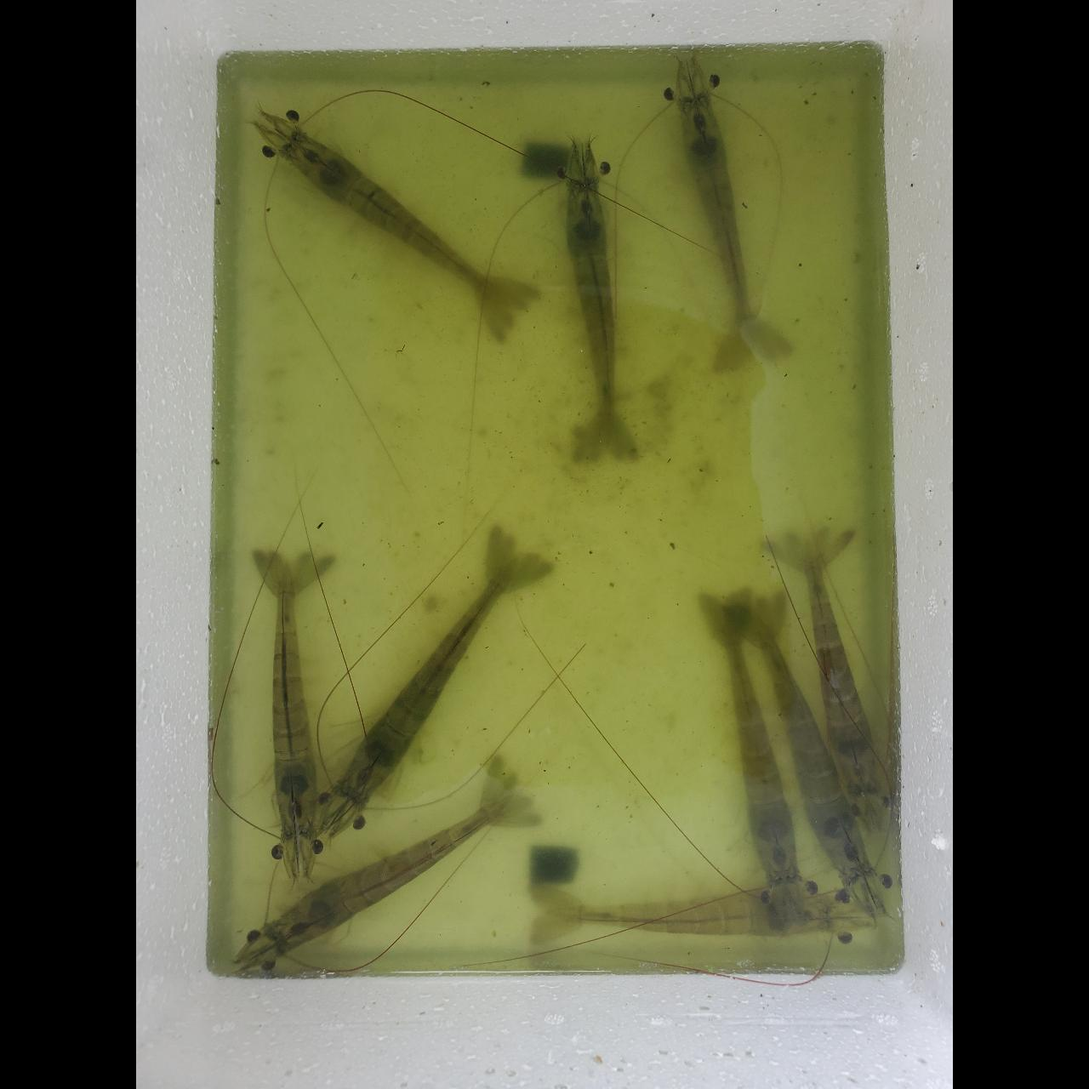box: (522, 141, 576, 184), (530, 846, 576, 886)
top_shrimp: (341, 554, 517, 797), (285, 134, 511, 308), (273, 792, 511, 949), (755, 610, 867, 873), (725, 602, 799, 876), (679, 94, 753, 355), (805, 540, 875, 792), (539, 887, 828, 937), (566, 178, 616, 452), (270, 559, 318, 833)
